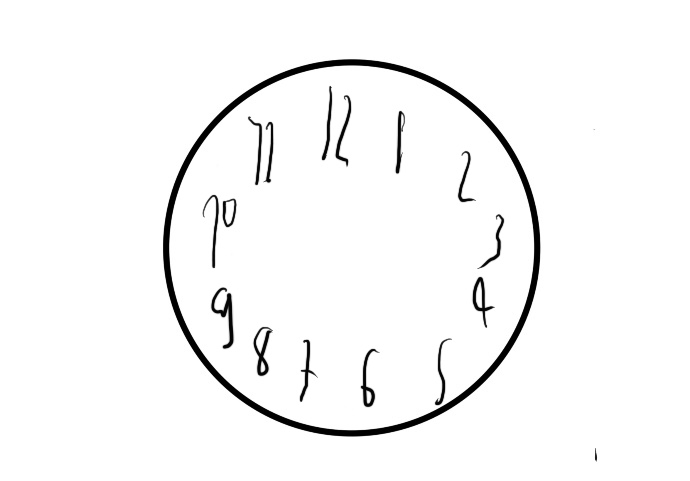eight: (252, 323, 274, 378)
eleven: (246, 116, 276, 186)
five: (431, 334, 449, 406)
four: (470, 277, 495, 329)
nine: (207, 285, 237, 352)
one: (389, 102, 408, 177)
seven: (295, 335, 320, 404)
six: (358, 346, 379, 411)
ten: (196, 192, 237, 271)
three: (476, 211, 506, 270)
twelve: (317, 81, 354, 167)
two: (455, 147, 479, 205)
